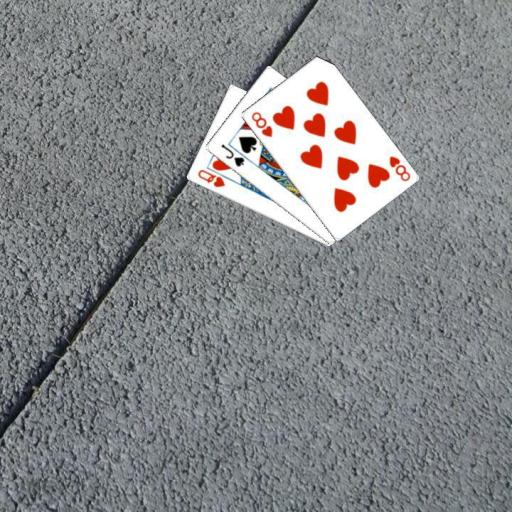8H: (247, 108, 274, 139), (385, 153, 412, 183)
JS: (218, 141, 245, 168)
QH: (194, 167, 226, 189)
